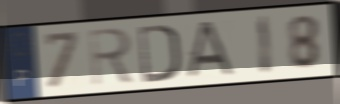7: (43, 28, 82, 91)
8: (285, 13, 323, 72)
A: (183, 19, 238, 81)
D: (136, 22, 182, 85)
I: (257, 13, 275, 77)
R: (86, 25, 136, 89)
